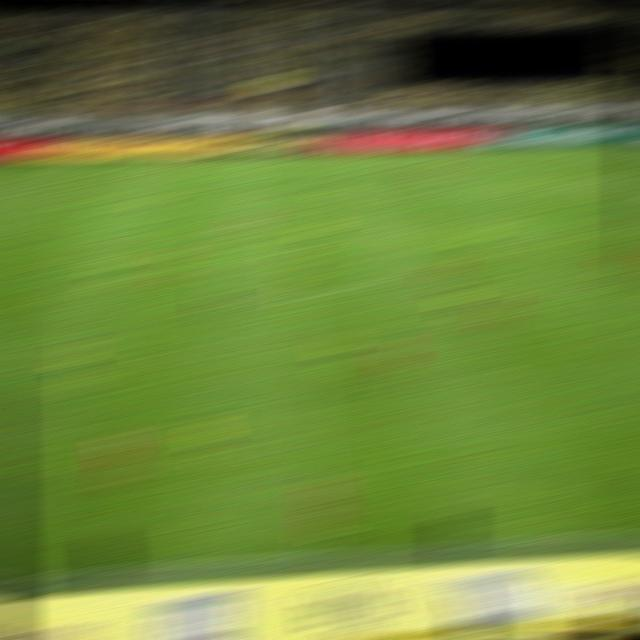bigarea_top_inner: (578, 173, 609, 181)
halfcircle_bottom: (274, 293, 307, 303)
halfcircle_top: (264, 215, 297, 224)
midline_bottom_intersection: (293, 541, 346, 564), (342, 99, 372, 106)
midline_top_intersection: (257, 153, 288, 161)
